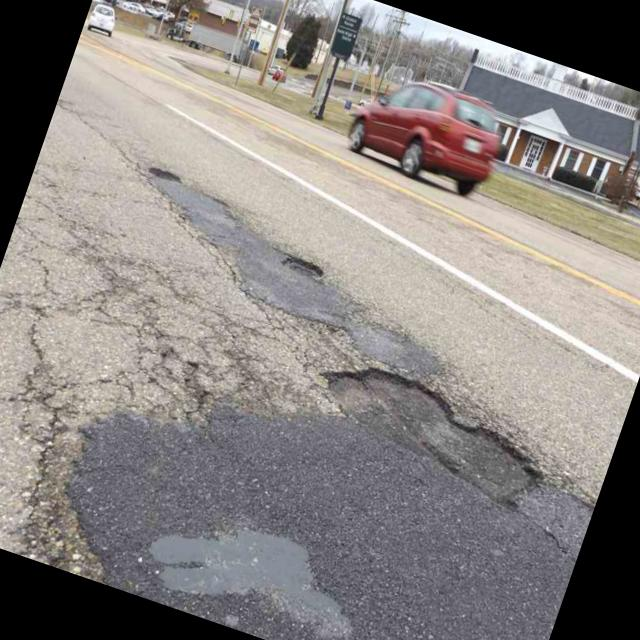Potholes: (312, 334, 560, 518), (272, 238, 328, 294), (138, 150, 194, 198)
